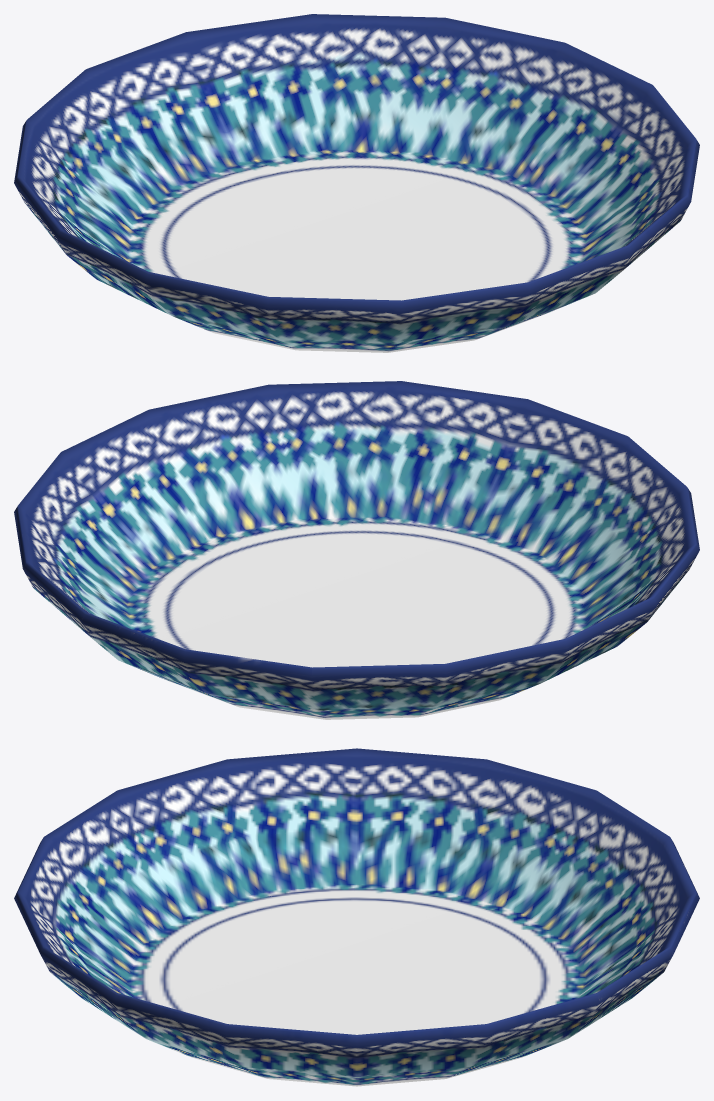
The model's file is Dish.glb.
The picture shows the model from 3 angles, top to bottom: view 1: azimuth 30°, elevation 25°; view 2: azimuth 150°, elevation 25°; view 3: azimuth 270°, elevation 25°; orthographic projection.
Visible parts, largest first — view 1: Circle; view 2: Circle; view 3: Circle.
Boxes of the visible parts, bbox=[...] form: Circle: bbox=[14, 14, 699, 352]; Circle: bbox=[14, 381, 699, 719]; Circle: bbox=[14, 748, 699, 1086].
Size of the model in its own units: 0.7342 by 0.1145 by 0.7342.
1 material, 1 textured.
